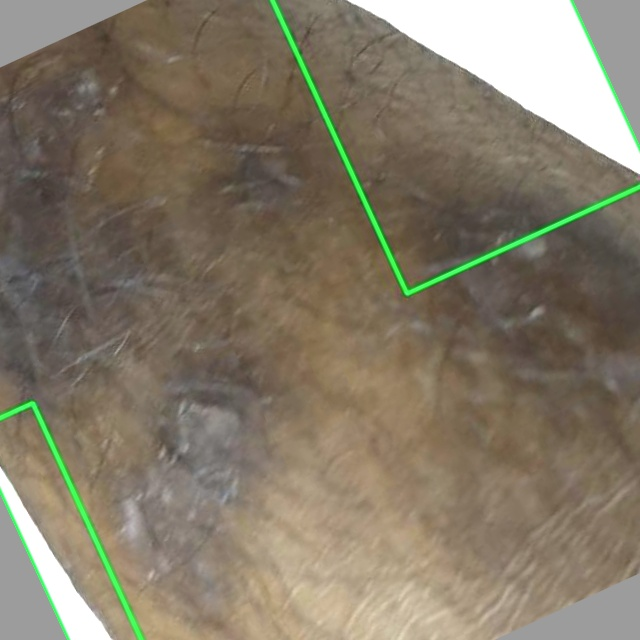Eczema: (272, 0, 639, 293)
